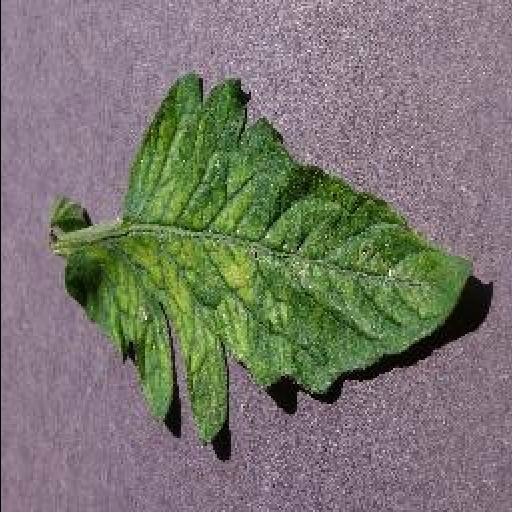Mosaic Virus: (58, 74, 476, 448)
